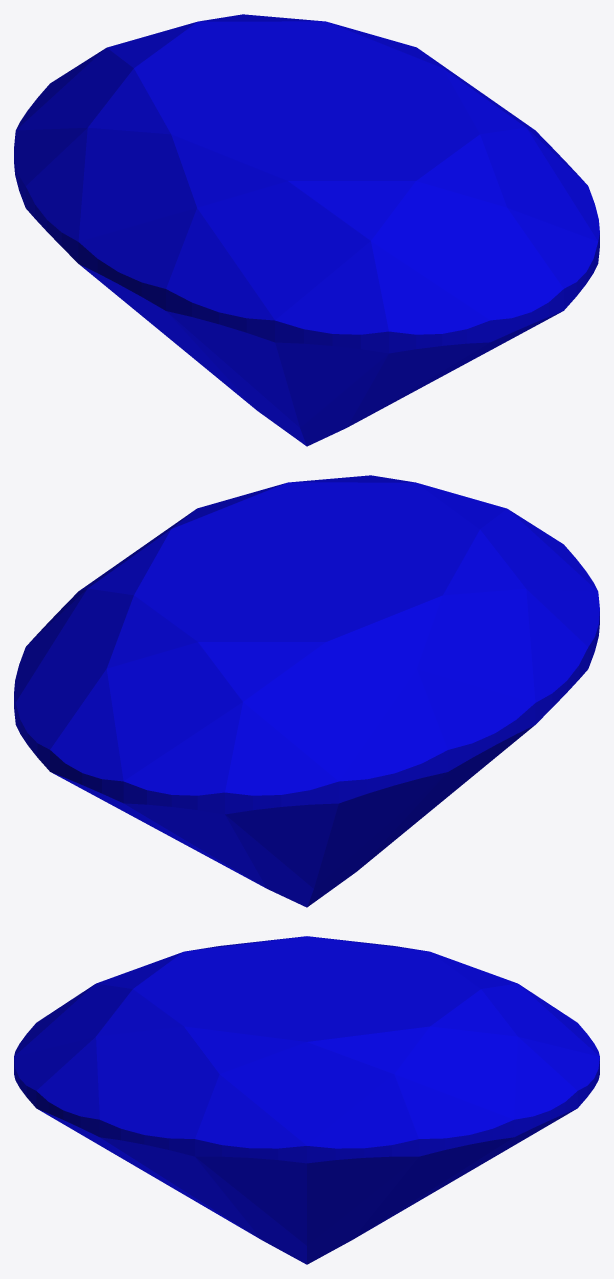
File: Head_Hidden Halo_Oval_0.75ct_Diamond.glb
3 renders of one model, top to bottom at view 1: azimuth 30°, elevation 25°; view 2: azimuth 150°, elevation 25°; view 3: azimuth 270°, elevation 25°, orthographic. The views are drawn at different scales.
Size of the model in its own units: 0.005 by 0.00361 by 0.00695.
